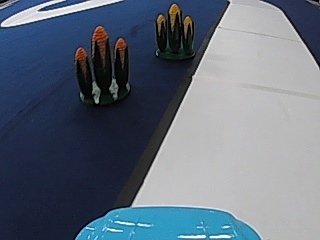corn: (74, 24, 133, 106), (151, 1, 197, 60)
